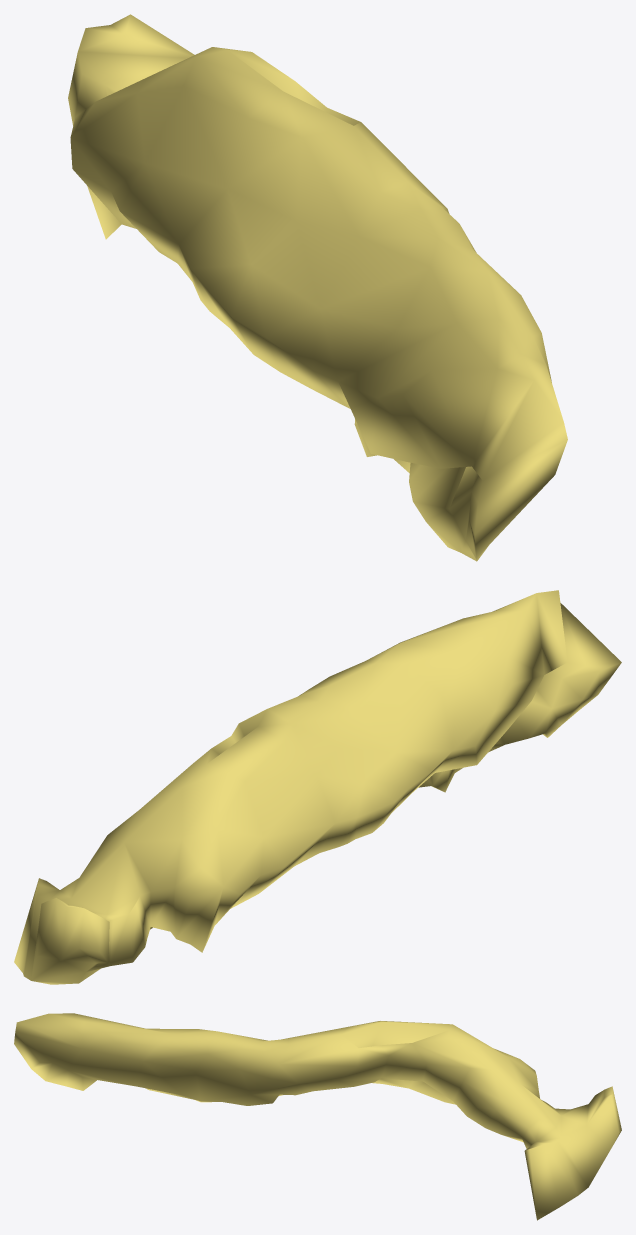
File: olfactory-sulcus-l.glb
3 views of the same model, one above another, from view 1: azimuth 30°, elevation 25°; view 2: azimuth 150°, elevation 25°; view 3: azimuth 270°, elevation 25° (orthographic). The views are drawn at different scales.
Parts seen in each view (by area): view 1: Olfactory sulcus.l; view 2: Olfactory sulcus.l; view 3: Olfactory sulcus.l.
Part boxes in pixels (x1,y1,x2,y2): Olfactory sulcus.l: [68, 14, 567, 561]; Olfactory sulcus.l: [14, 590, 621, 984]; Olfactory sulcus.l: [14, 1013, 621, 1220].
Size of the model in its own units: 0.0213 by 0.0158 by 0.0575.
